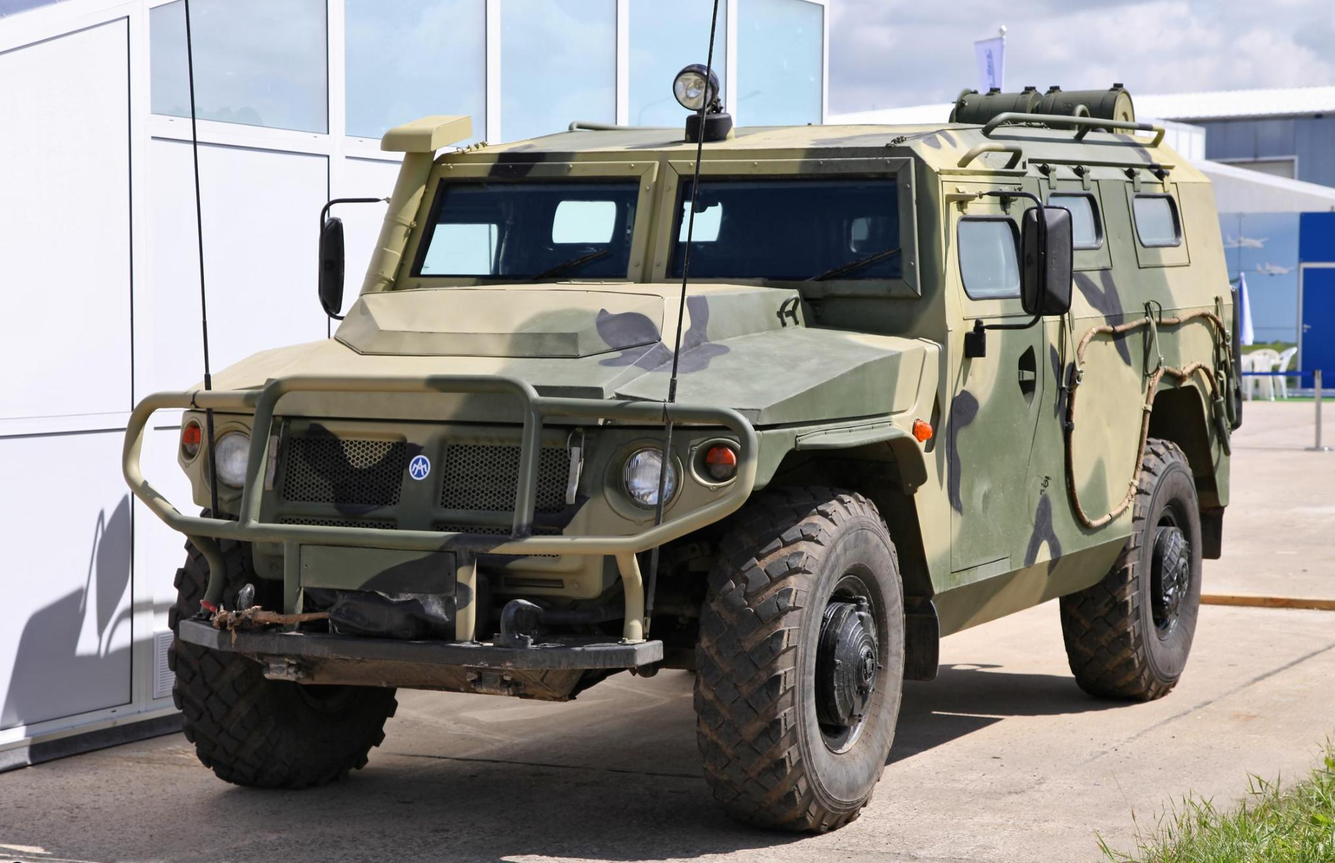armored_car: (135, 36, 1276, 832)
